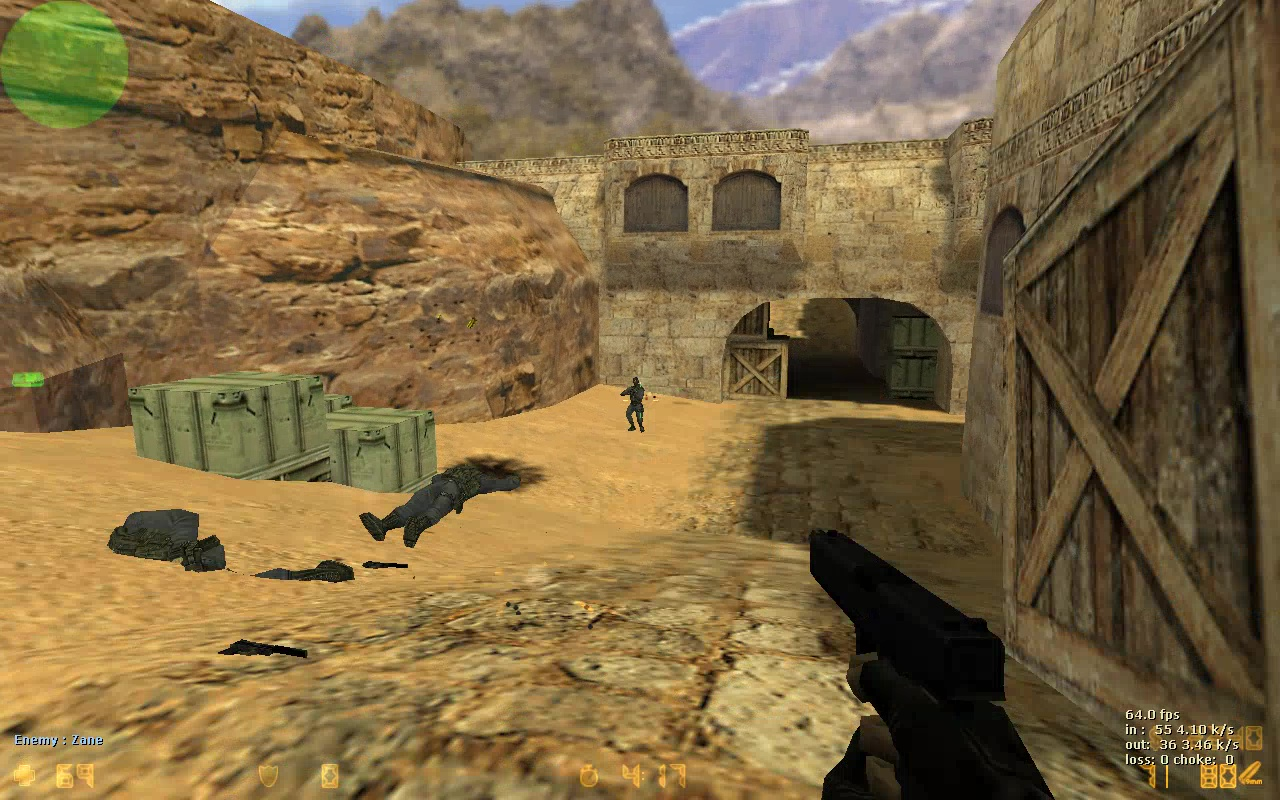ct: (619, 379, 649, 430)
dead: (362, 462, 520, 541)
